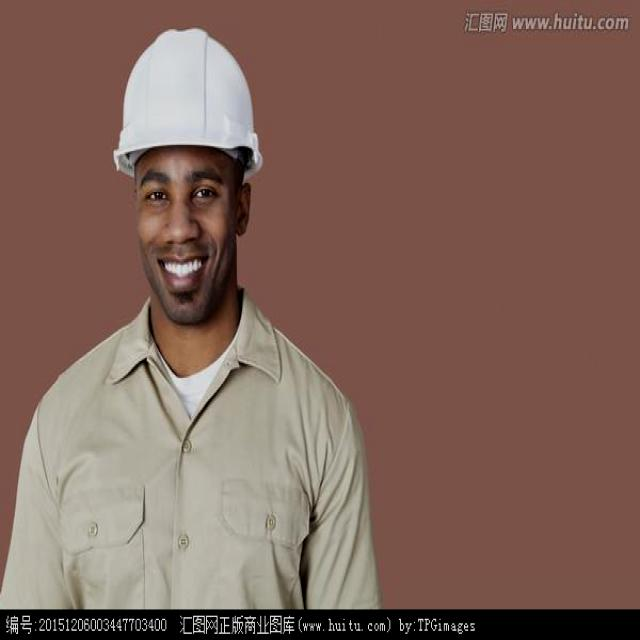face_nomask: (117, 157, 260, 328)
head_helmet: (98, 15, 258, 163)
person: (1, 11, 393, 599)
